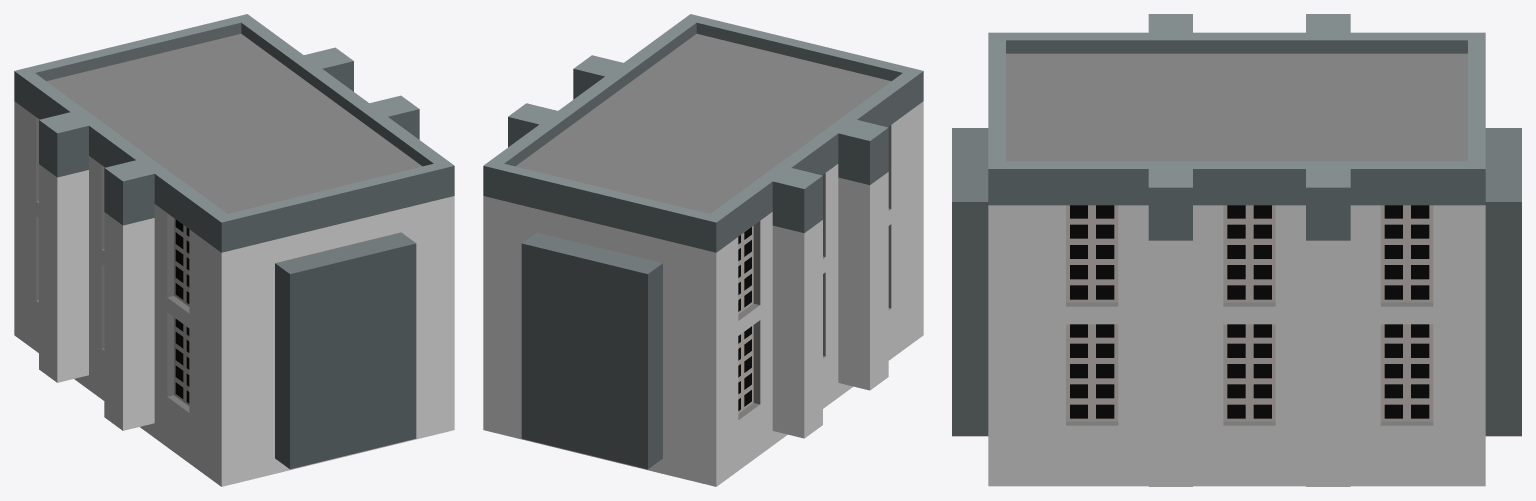
The model's file is Apartment001_Half.fbx.
The picture shows the model from 3 angles, left to right: view 1: azimuth 30°, elevation 25°; view 2: azimuth 150°, elevation 25°; view 3: azimuth 270°, elevation 25°; orthographic projection. The views are drawn at different scales.
Visible parts, largest first — view 1: polySurface33; view 2: polySurface33; view 3: polySurface33.
Boxes of the visible parts, x1,y1,x2,y2 form: polySurface33: (14, 14, 454, 486); polySurface33: (483, 14, 923, 486); polySurface33: (952, 14, 1521, 486).
Bounding box in the file's own units: 825 × 703 × 1144.
